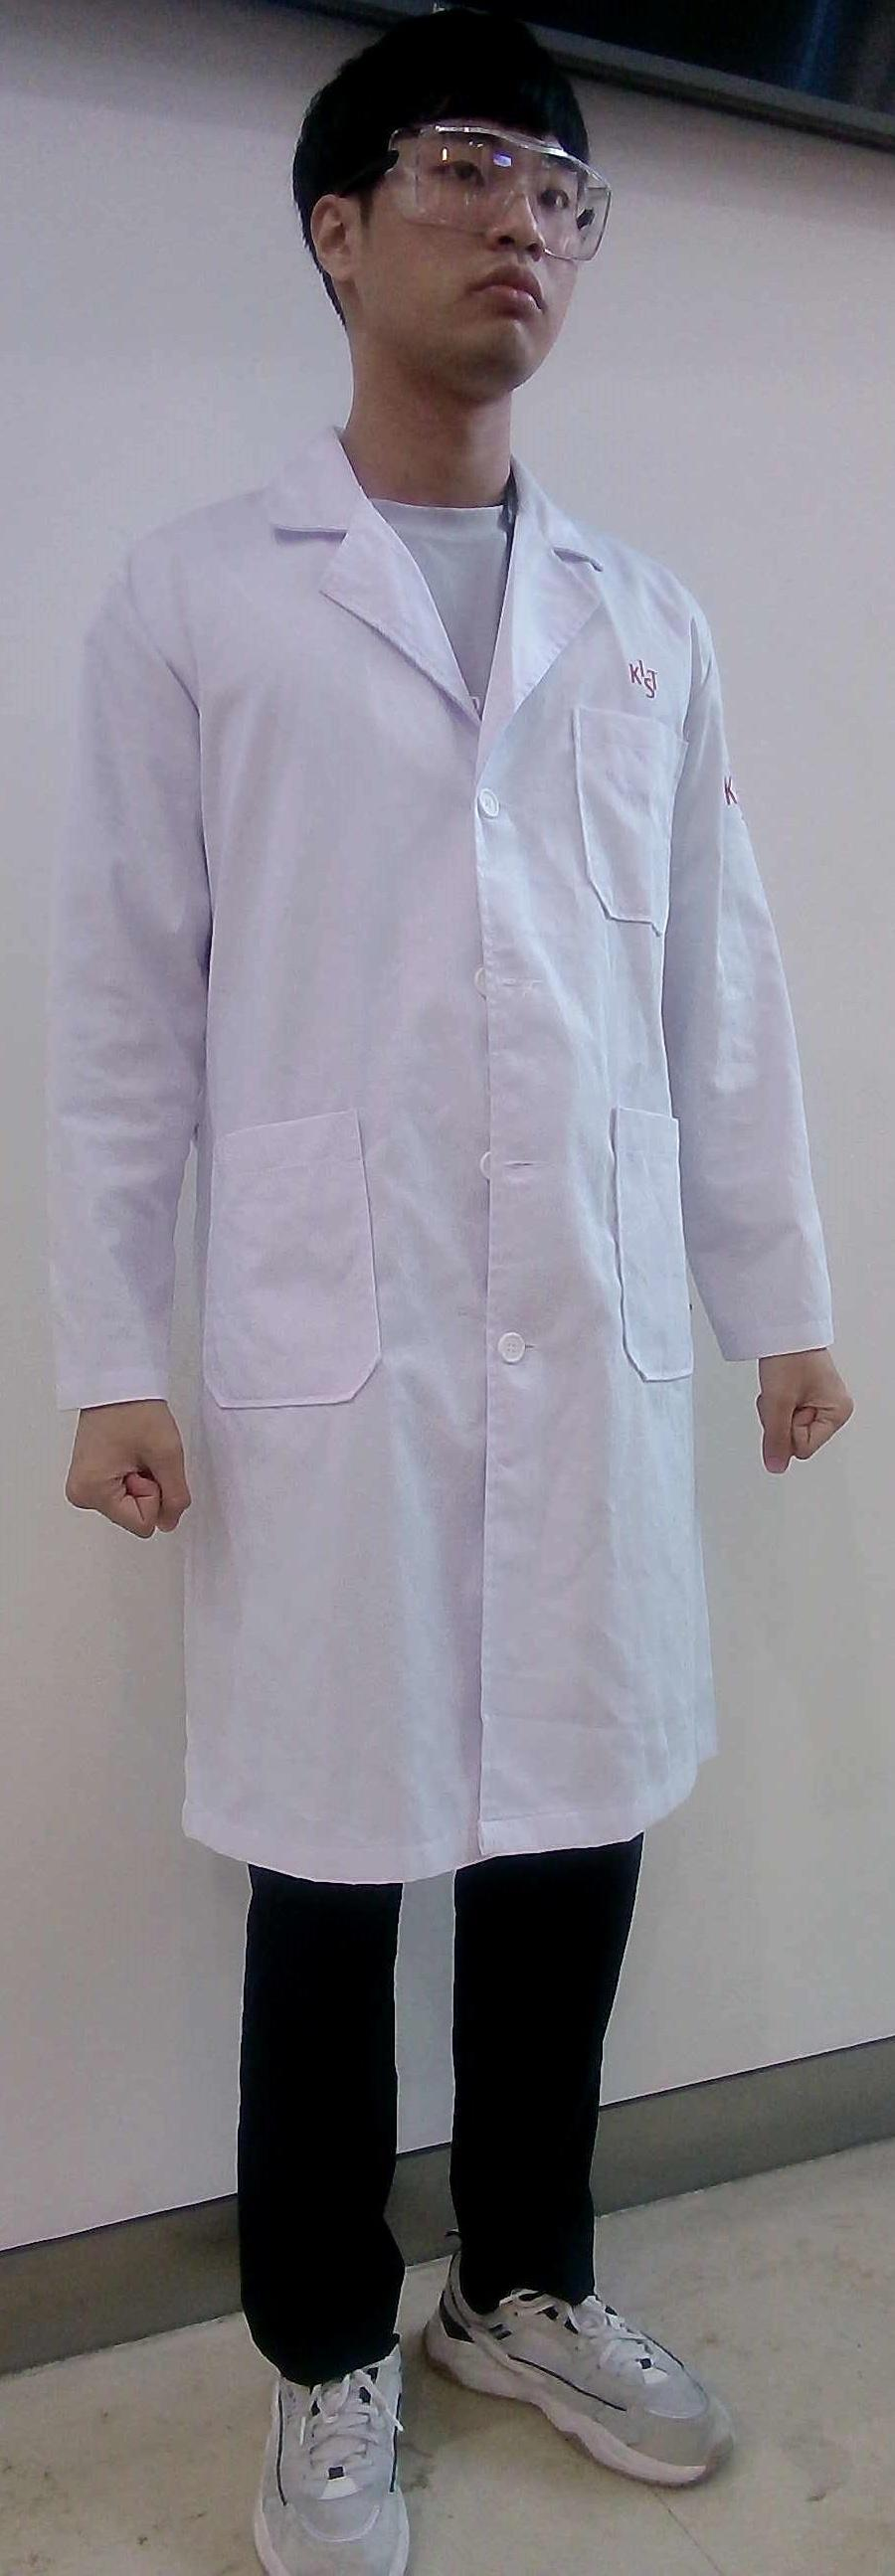lab_coat: (187, 504, 755, 1861)
